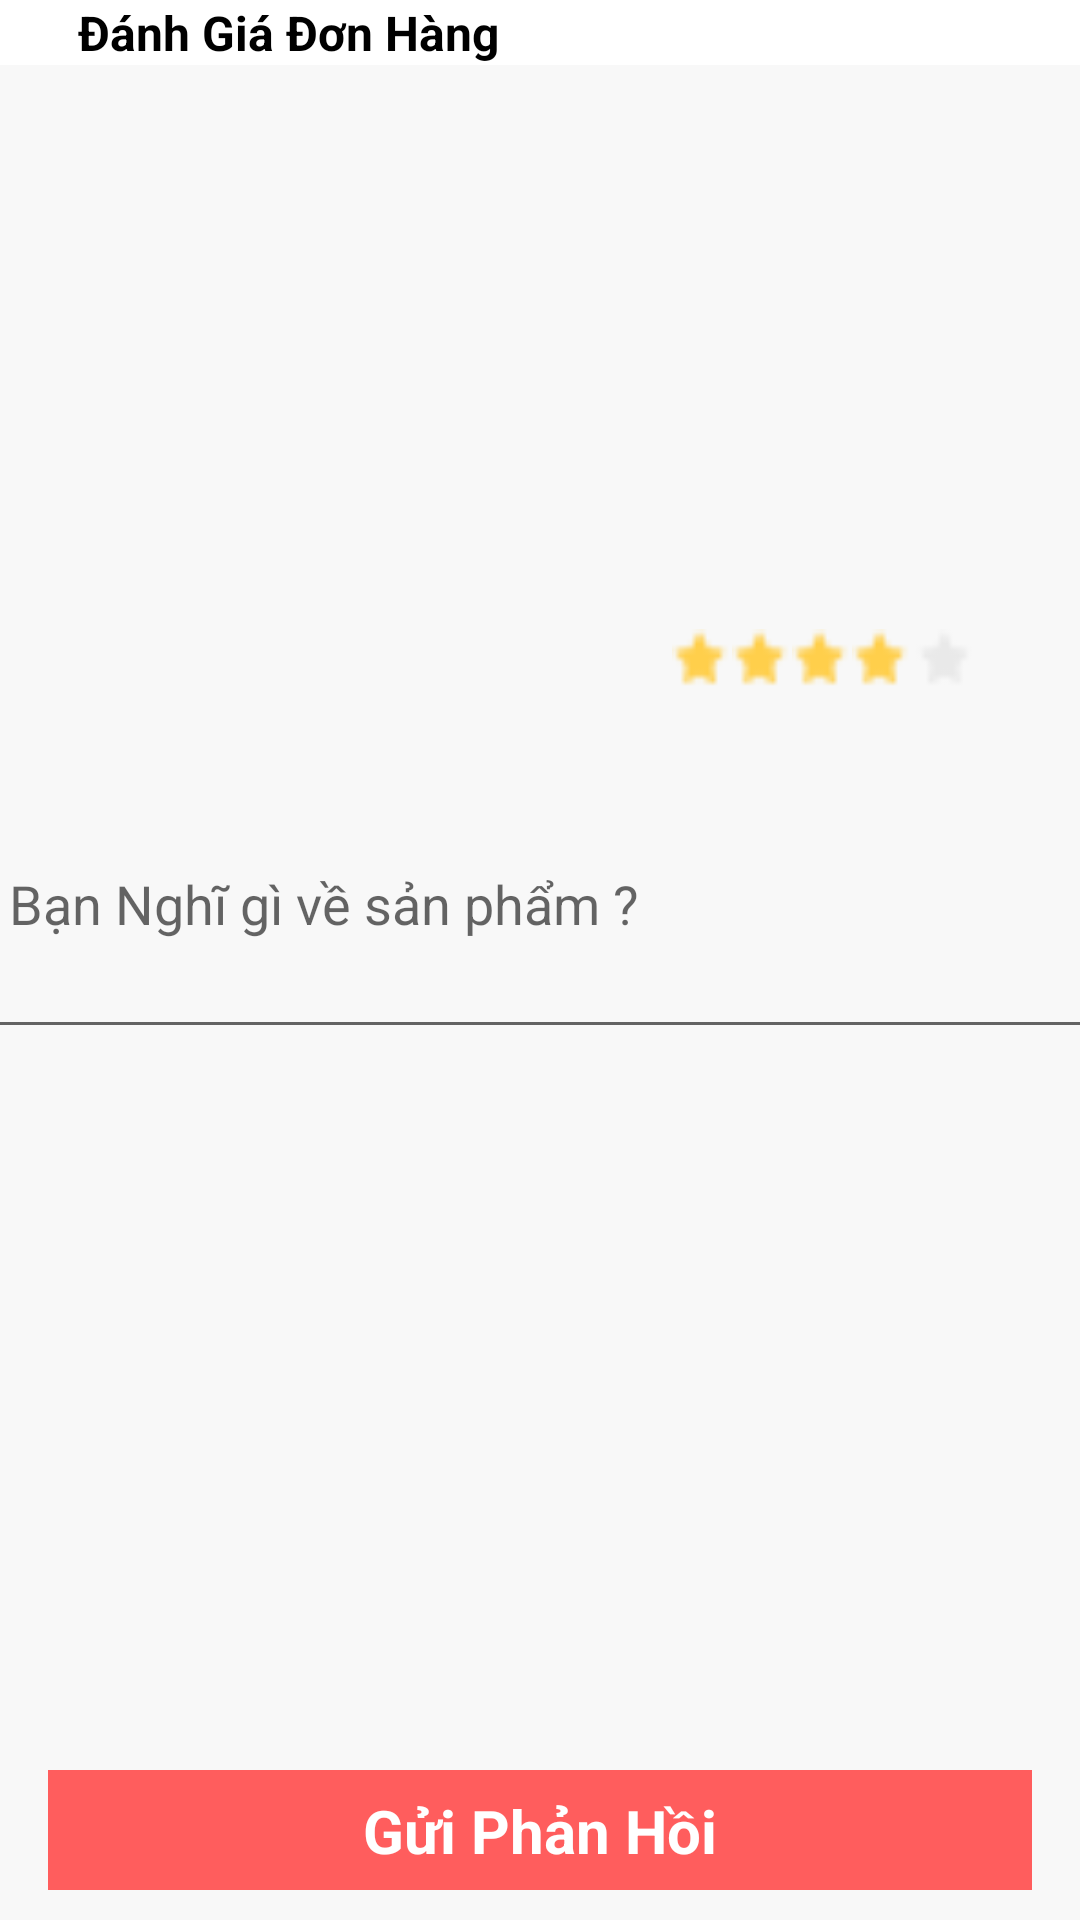

Locate icon controls on the screen. Image size 1080×1920, boxes as bbox=(x1, y1, x2, y2).
star: bbox=(675, 632, 725, 685), bbox=(735, 632, 785, 685), bbox=(795, 632, 845, 685), bbox=(855, 632, 905, 685)
